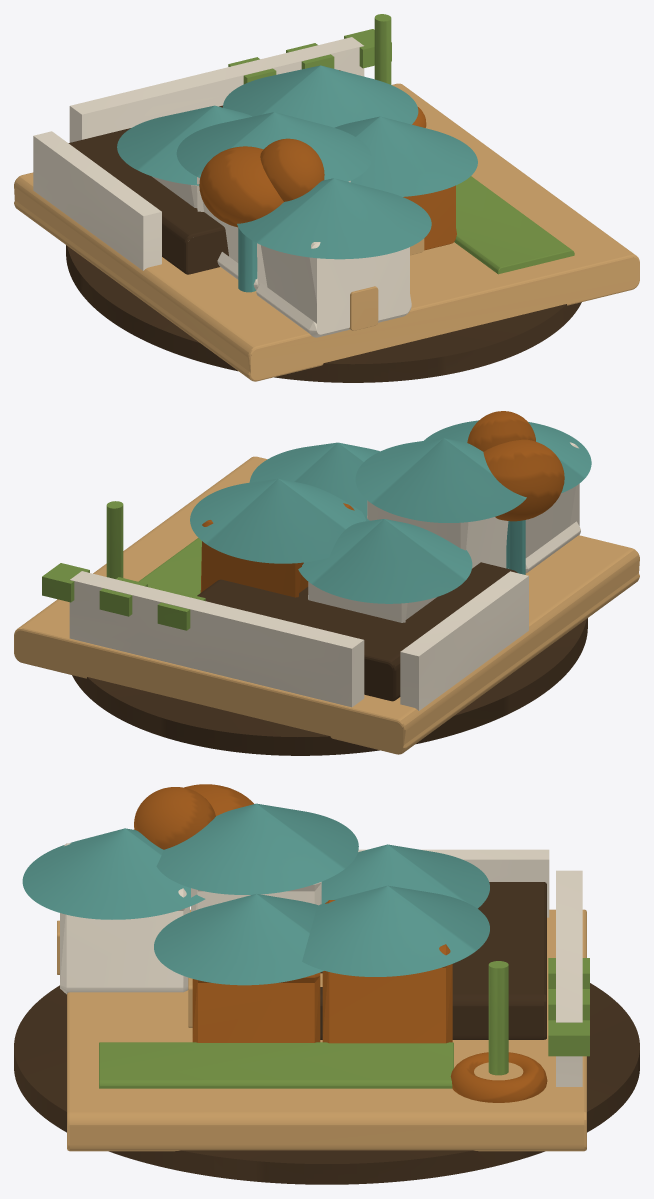
File: 0803_中国建筑图鉴_故宫沙盘.glb
The picture shows the model from 3 angles, top to bottom: view 1: azimuth 30°, elevation 25°; view 2: azimuth 150°, elevation 25°; view 3: azimuth 270°, elevation 25°; orthographic projection. The views are drawn at different scales.
Parts seen in each view (by area): view 1: card_0803; view 2: card_0803; view 3: card_0803.
Boxes of the visible parts, x1,y1,x2,y2 form: card_0803: (14, 14, 639, 382); card_0803: (14, 411, 639, 755); card_0803: (14, 784, 639, 1184).
Bounding box in the file's own units: 2.29 × 1 × 2.58.
